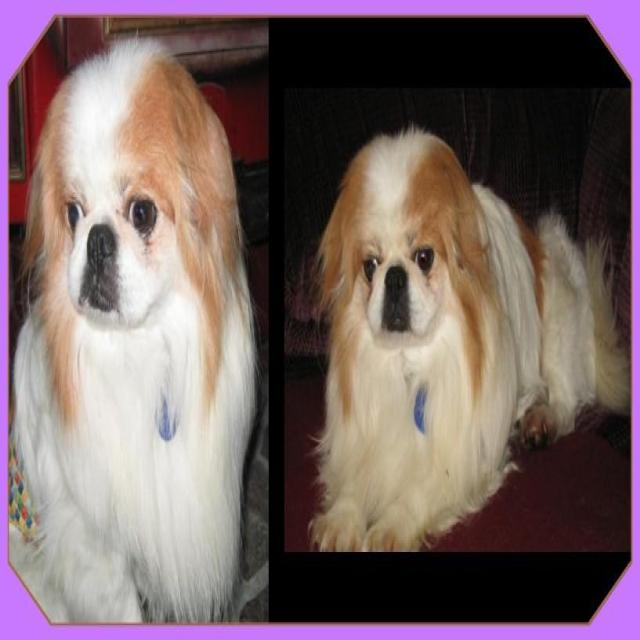husky: (7, 16, 262, 628), (302, 114, 630, 554)
